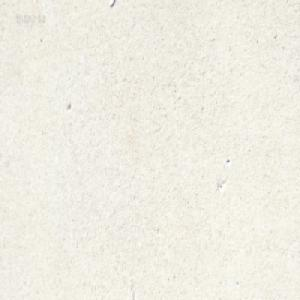Wrench: (108, 0, 114, 5)
